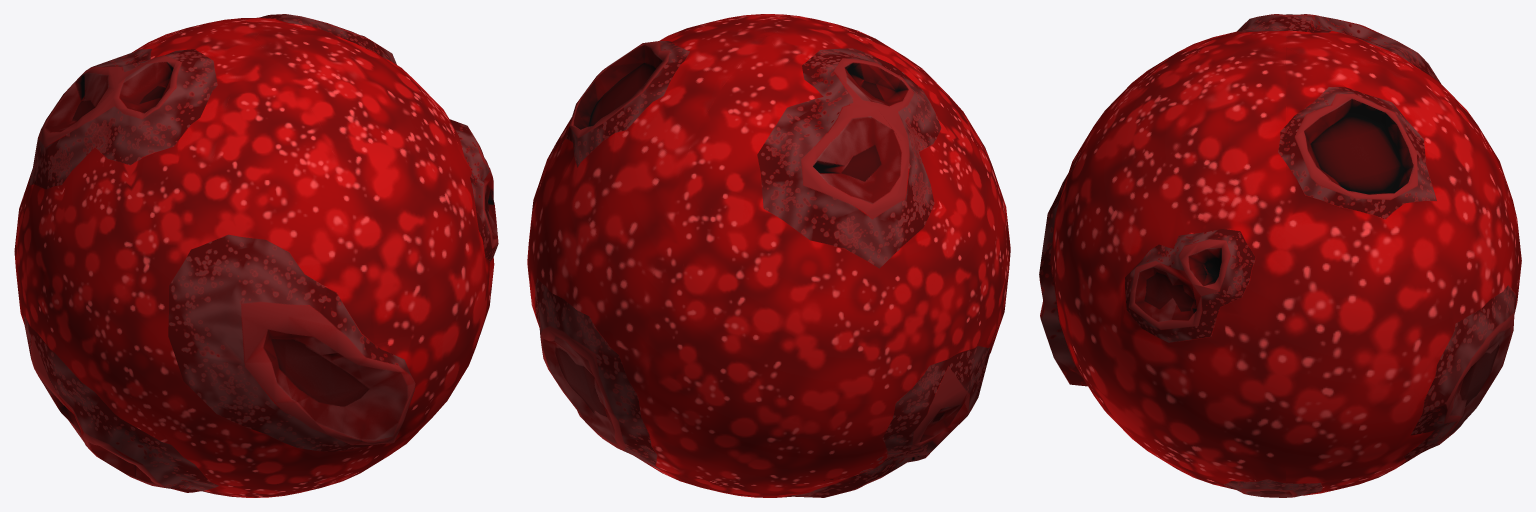
Rendered from Planet_04.fbx.
3 renders of one model, left to right at view 1: azimuth 30°, elevation 25°; view 2: azimuth 150°, elevation 25°; view 3: azimuth 270°, elevation 25°, orthographic. The views are drawn at different scales.
Visible parts, largest first — view 1: Planet_04; view 2: Planet_04; view 3: Planet_04.
Boxes of the visible parts, box(x1,y1,x2,y2) form: Planet_04: box(14, 14, 498, 497); Planet_04: box(527, 14, 1010, 497); Planet_04: box(1039, 14, 1521, 497).
Bounding box in the file's own units: 1233 × 1233 × 1262.
